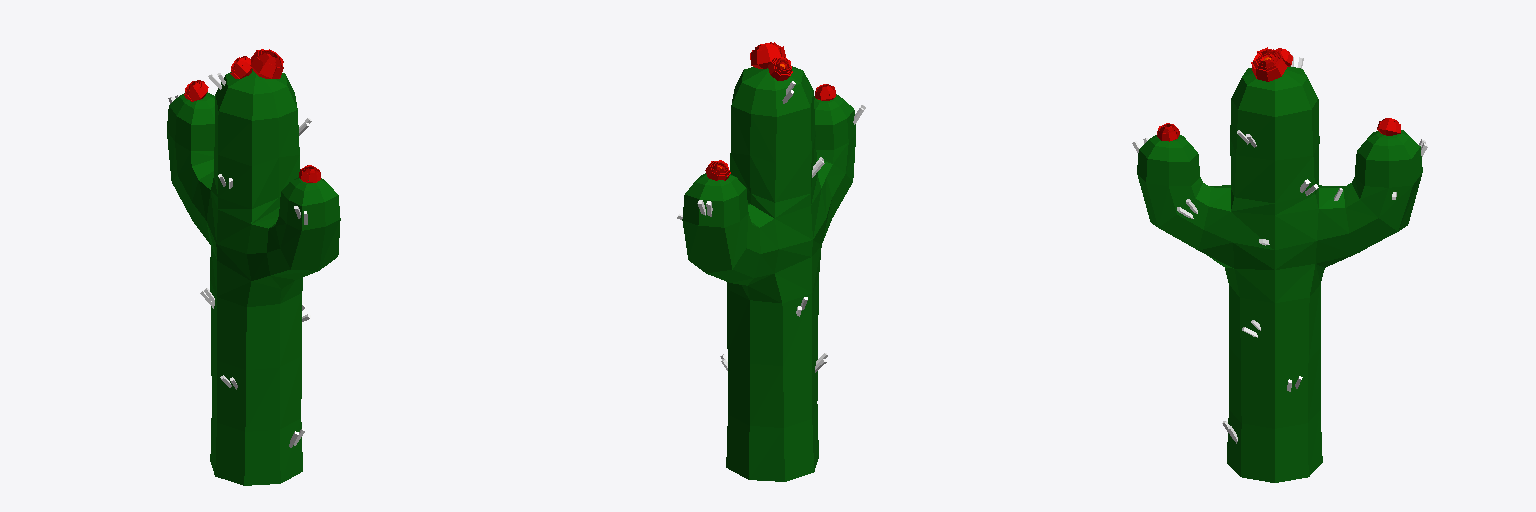
Rendered from cactus.obj.
The picture shows the model from 3 angles: view 1: azimuth 30°, elevation 25°; view 2: azimuth 150°, elevation 25°; view 3: azimuth 270°, elevation 25°; orthographic projection.
Visible parts, largest first — view 1: Cactus_01; view 2: Cactus_01; view 3: Cactus_01.
Boxes of the visible parts, box(x1,y1,x2,y2) form: Cactus_01: box(167, 49, 340, 485); Cactus_01: box(677, 42, 865, 481); Cactus_01: box(1132, 47, 1427, 482).
Size of the model in its own units: 41.77 by 176 by 114.